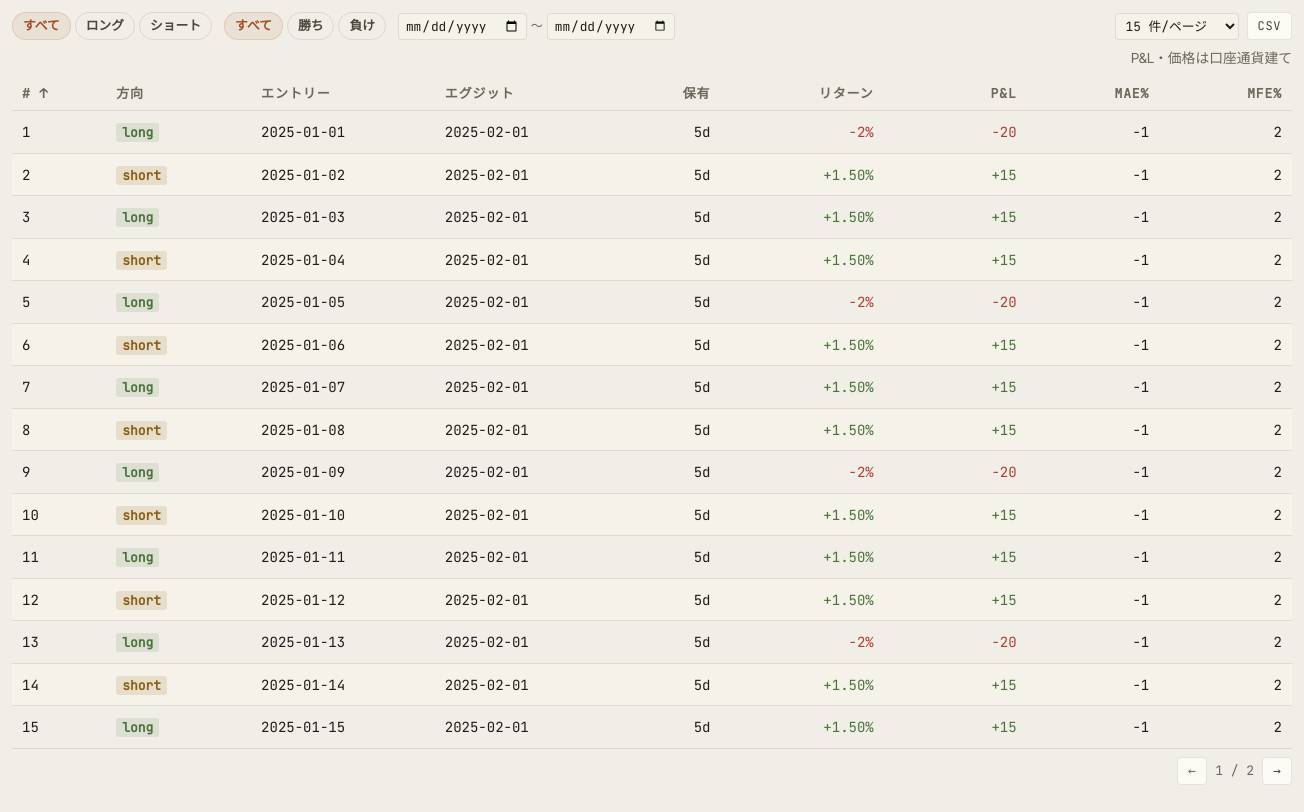
TradeTable filters & paging (issue #371) › 方向チップでショートだけに絞り込める
Click the button "ショート" at (176, 26), box [139,12,212,40]
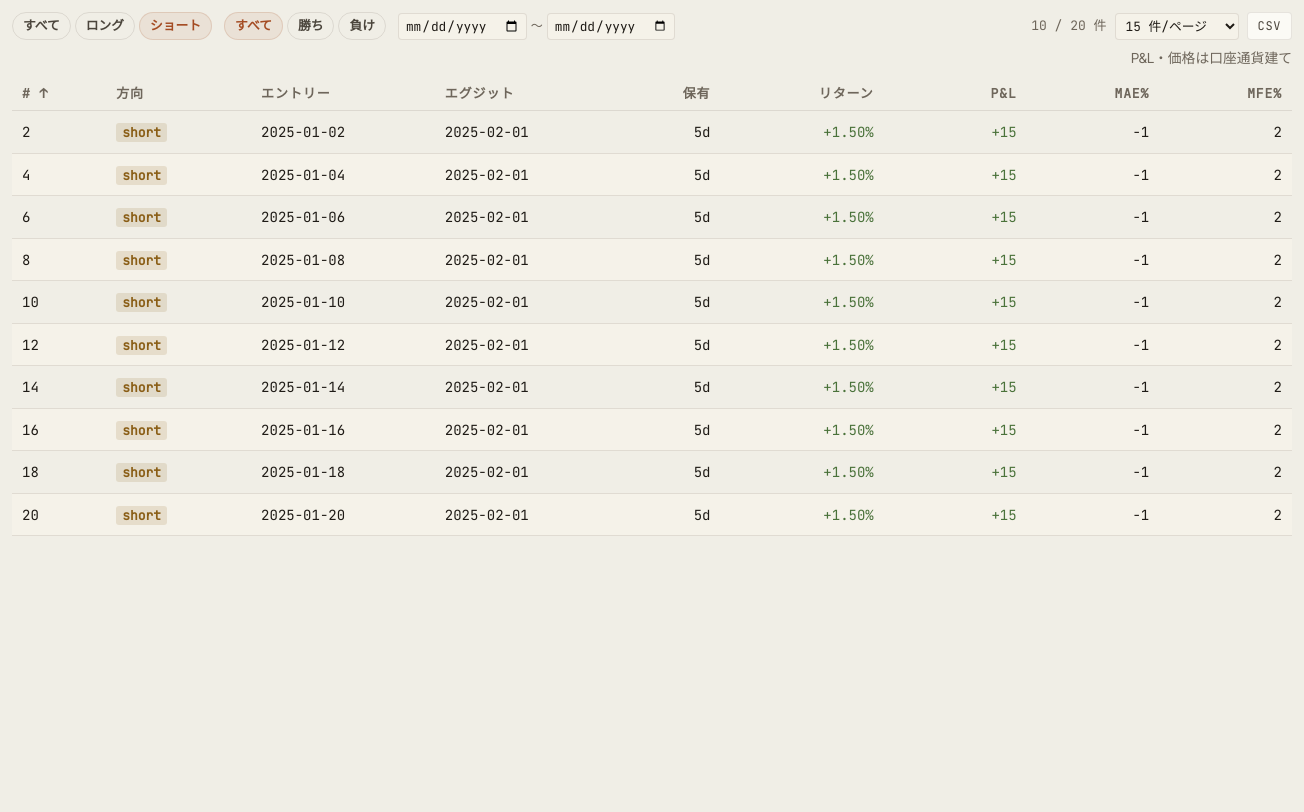
Expected: the text "short" next to "2025-01-02" is shown, [122,124,161,141]
Expected: the text "long" is not shown
